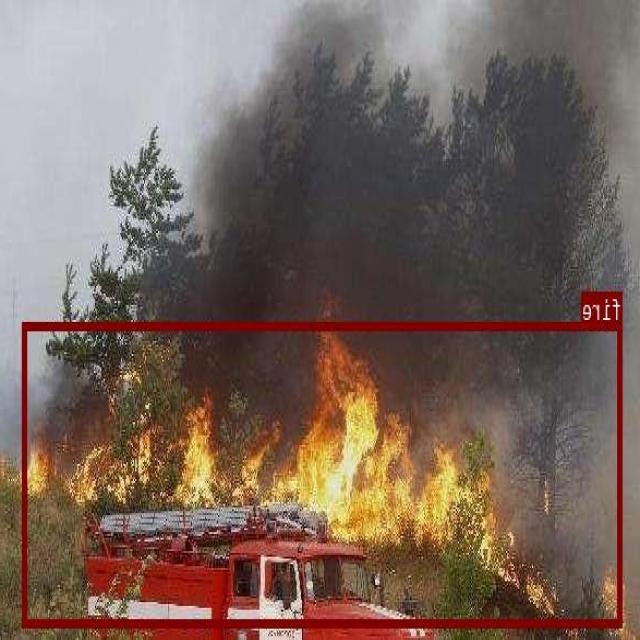fire: (23, 321, 623, 625)
